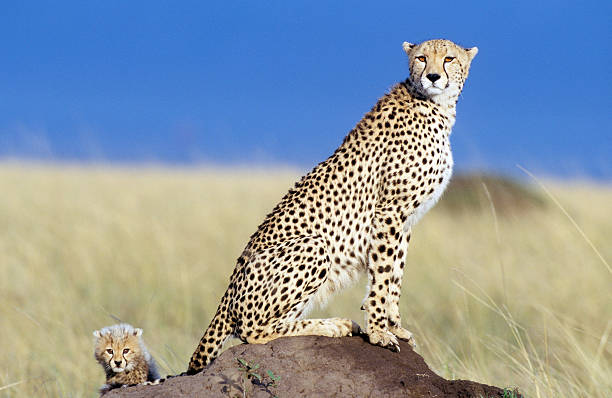cheetah: (391, 28, 484, 105)
